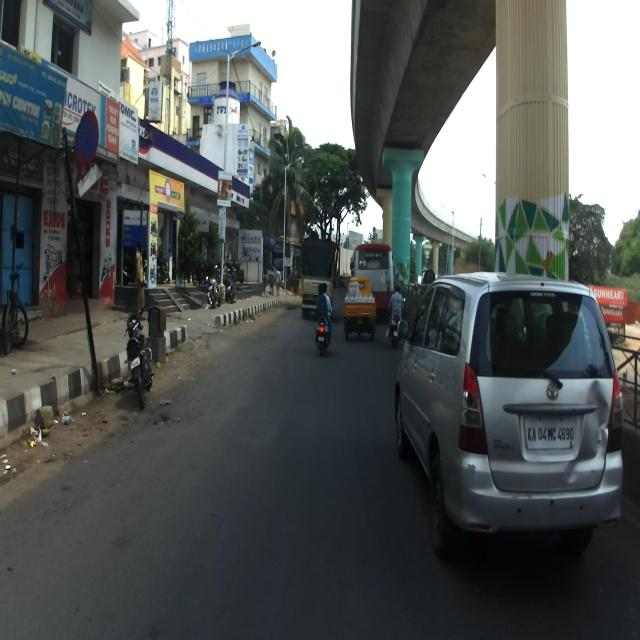car ahead at: (395, 266, 626, 554)
motorcycle ahead at: (122, 309, 156, 411)
sign board ahead at: (60, 105, 104, 207)
